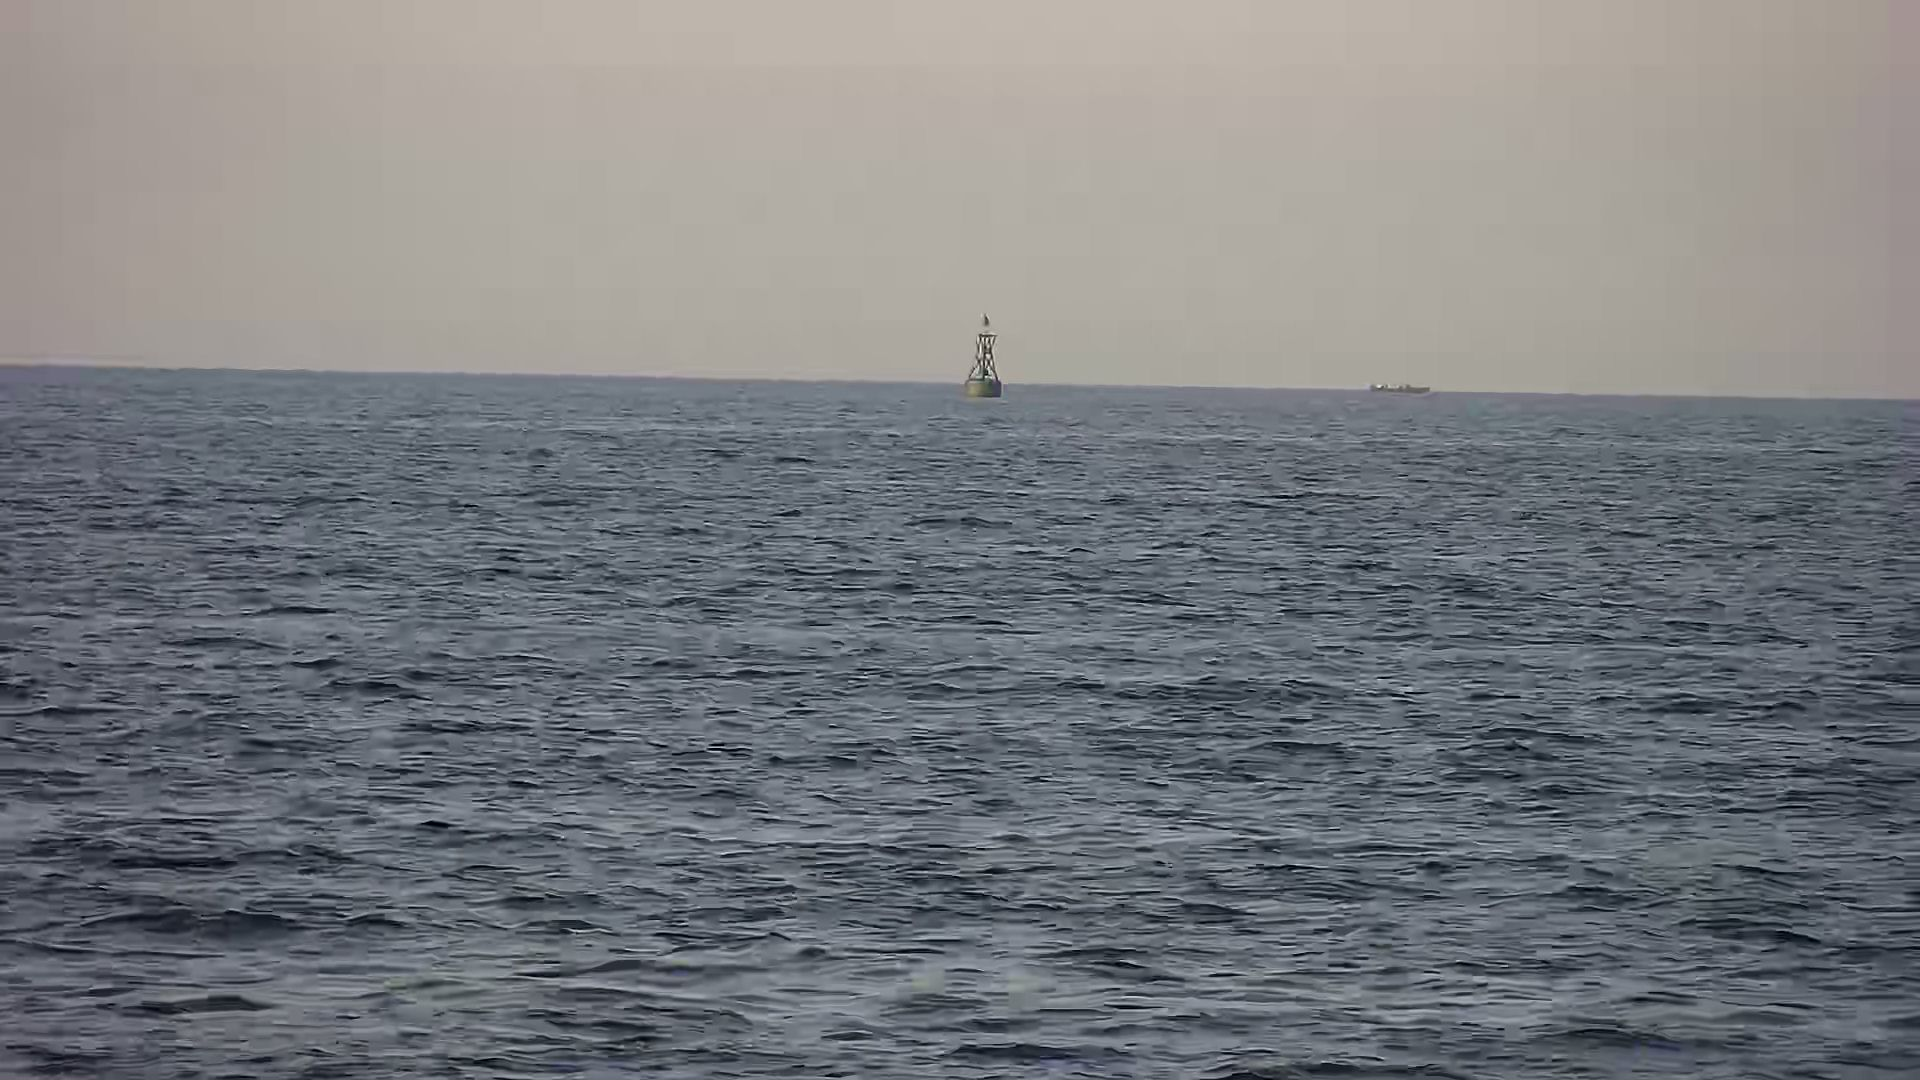buoy: (960, 314, 1010, 404)
